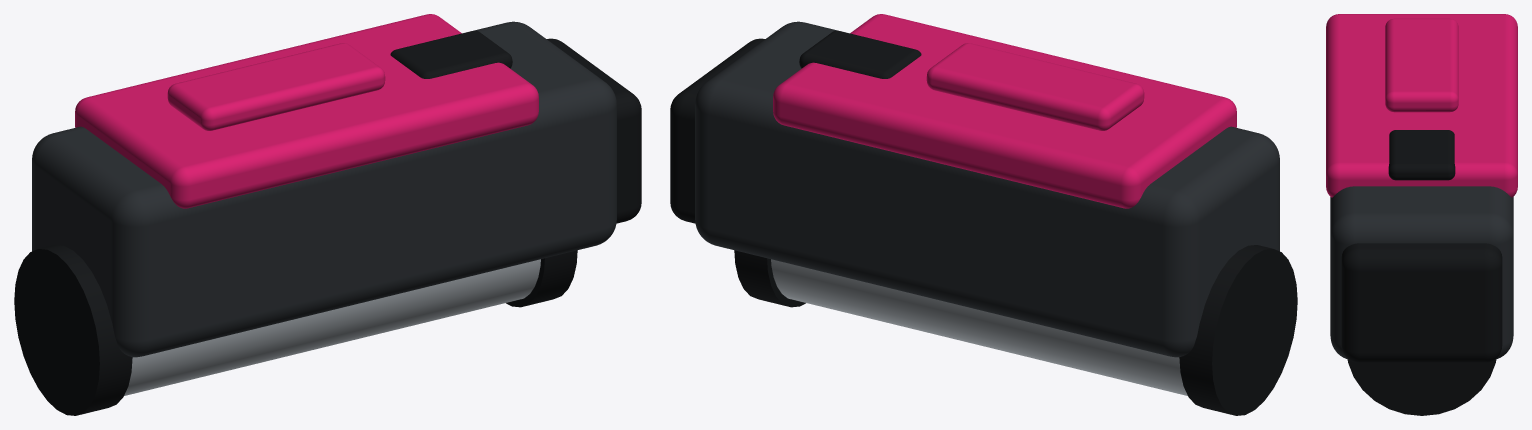
The model's file is toner-magenta.glb.
The picture shows the model from 3 angles, left to right: view 1: azimuth 30°, elevation 25°; view 2: azimuth 150°, elevation 25°; view 3: azimuth 270°, elevation 25°; orthographic projection. The views are drawn at different scales.
Visible parts, largest first — view 1: magenta toner cartridge; view 2: magenta toner cartridge; view 3: magenta toner cartridge.
Part boxes in pixels (box(x1,y1,x2,y2)): magenta toner cartridge: box(14, 14, 641, 415); magenta toner cartridge: box(670, 14, 1297, 415); magenta toner cartridge: box(1326, 14, 1517, 415).
Bounding box in the file's own units: 2.5 × 1.23 × 0.86.
